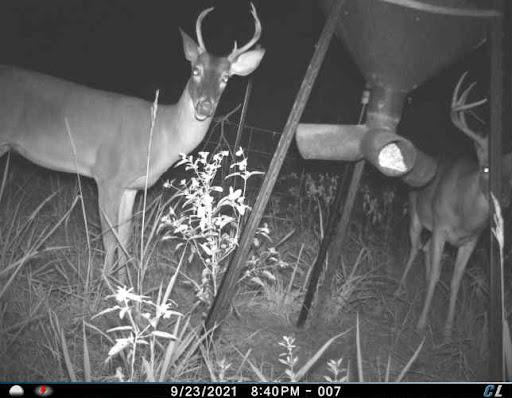Deer: (0, 0, 273, 299), (402, 67, 512, 357)
